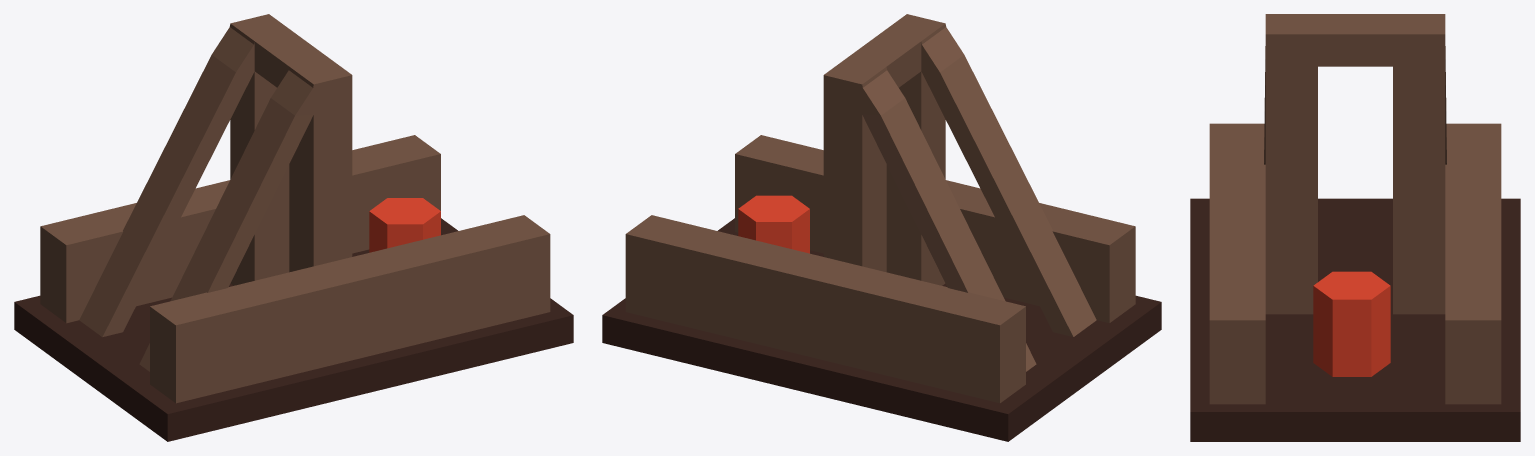
Rendered from onager.glb.
The picture shows the model from 3 angles, left to right: view 1: azimuth 30°, elevation 25°; view 2: azimuth 150°, elevation 25°; view 3: azimuth 270°, elevation 25°; orthographic projection. The views are drawn at different scales.
Parts seen in each view (by area): view 1: Cube.001, Cube, Circle; view 2: Cube.001, Cube, Circle; view 3: Cube.001, Cube, Circle.
Part boxes in pixels (x1,y1,x2,y2): Cube.001: (40,14,550,403); Cube: (14,218,573,441); Circle: (369,198,440,252); Cube.001: (625,14,1135,403); Cube: (602,218,1161,441); Circle: (738,195,809,253); Cube.001: (1209,14,1501,404); Cube: (1190,198,1520,441); Circle: (1313,271,1390,376).
Bounding box in the file's own units: 6.11 × 4.14 × 4.
